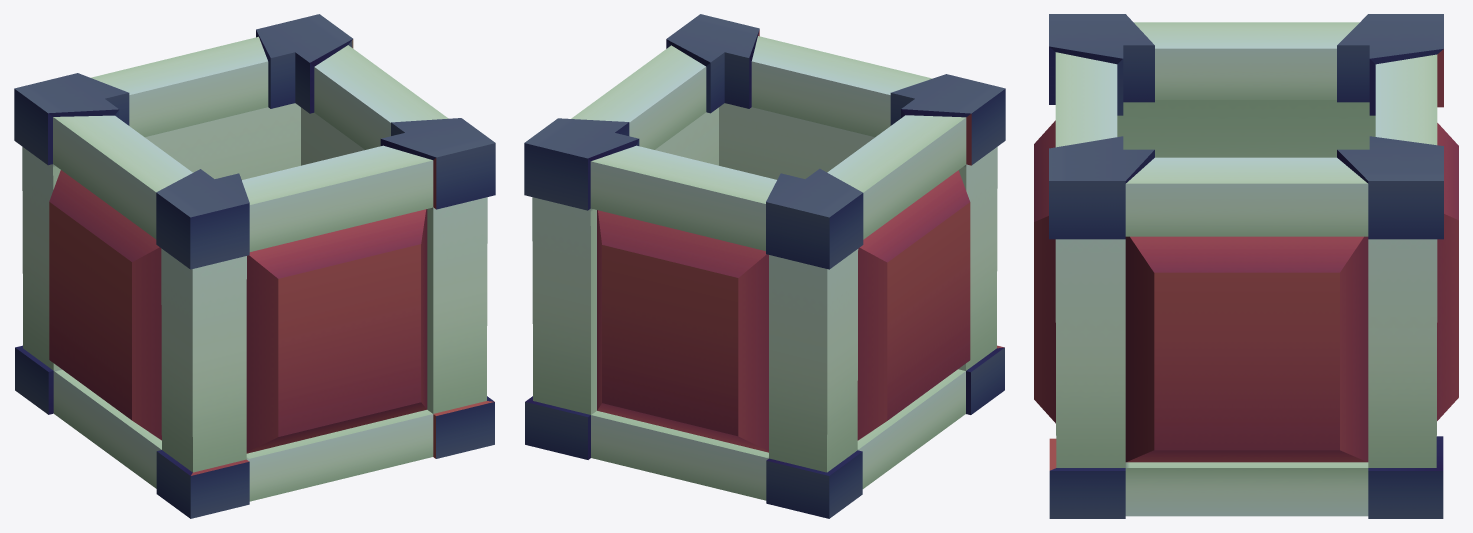
The model's file is F_Crate.fbx.
3 renders of one model, left to right at view 1: azimuth 30°, elevation 25°; view 2: azimuth 150°, elevation 25°; view 3: azimuth 270°, elevation 25°, orthographic. The views are drawn at different scales.
Parts seen in each view (by area): view 1: FutureCrate; view 2: FutureCrate; view 3: FutureCrate.
Part boxes in pixels (x1=…): FutureCrate: x1=14, y1=14, x2=495, y2=518; FutureCrate: x1=524, y1=14, x2=1005, y2=518; FutureCrate: x1=1034, y1=14, x2=1458, y2=518.
Bounding box in the file's own units: 120 × 105 × 120.
